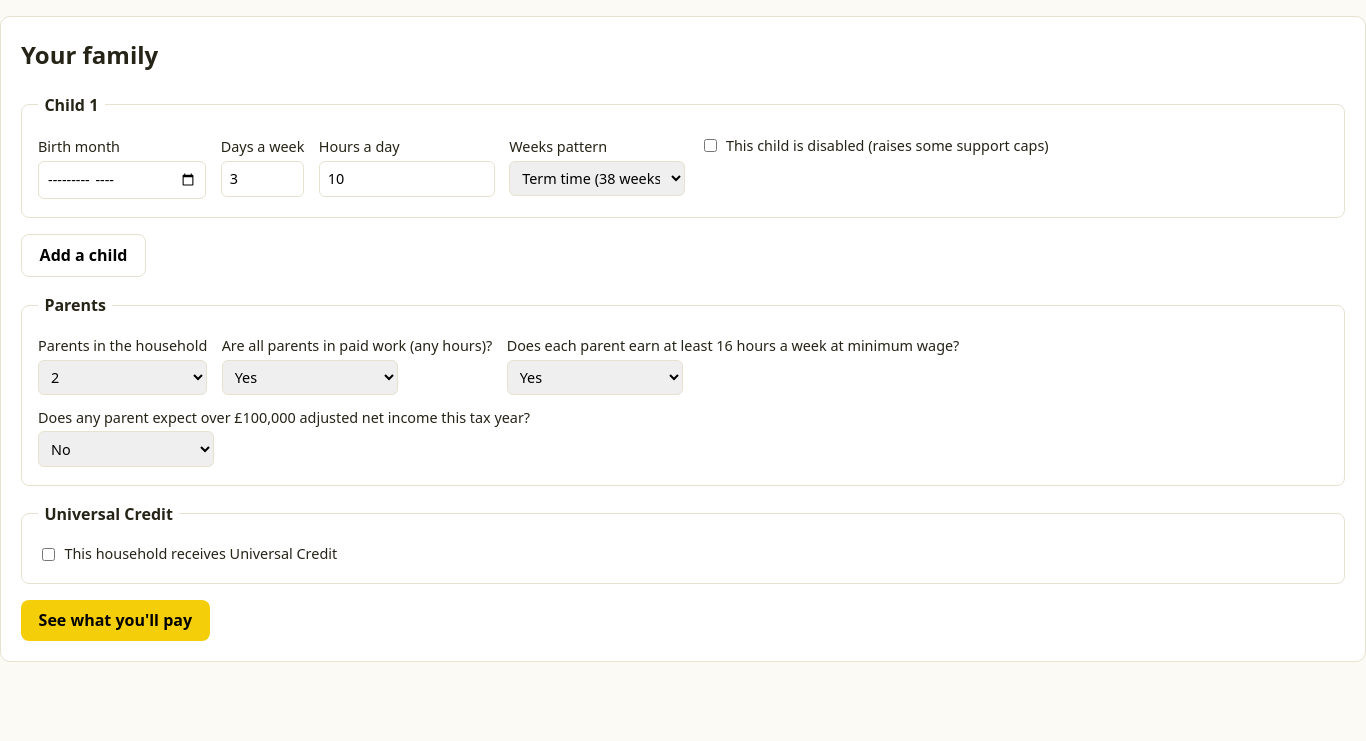
Test: FamilyForm › reveals the memory-only UC figure fields only for claimants
Check: the text "never leave your browser" is not shown
Click the checkbox labelled "This household receives Universal Credit" at coordinates (48, 554), box [42,548,55,561]
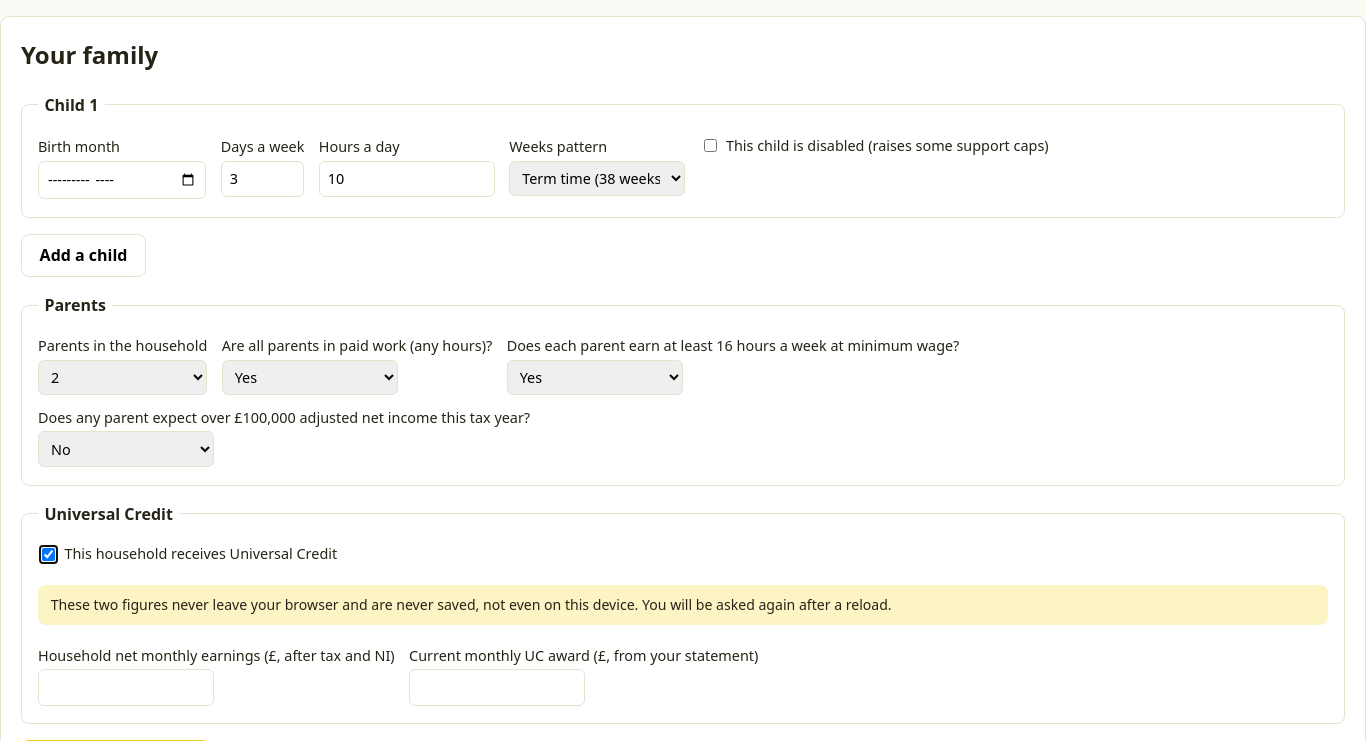
Check: the text "never leave your browser" is shown, box [51,595,892,614]
Check: the field labelled "Household net monthly earnings (£, after tax and NI)" is shown, box [38,669,214,706]
